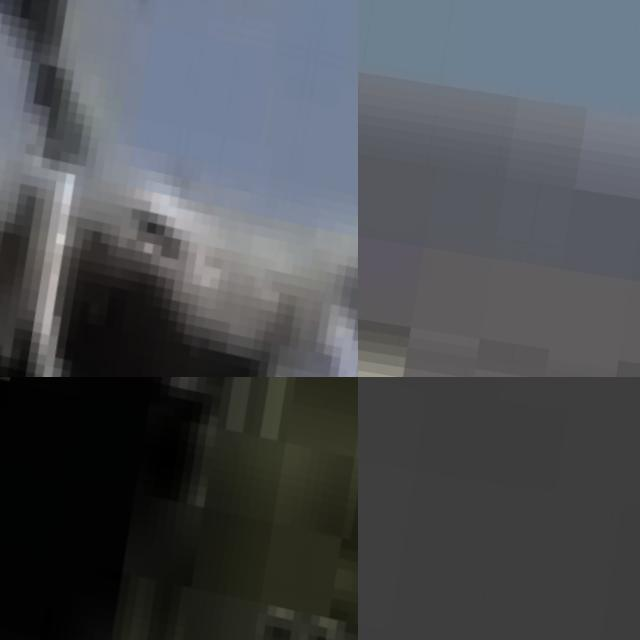0: (0, 377, 358, 640)
drone: (0, 0, 358, 377)
